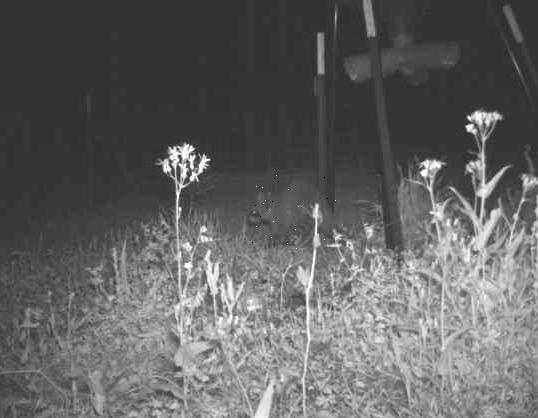Raccoon: (246, 173, 336, 249)
